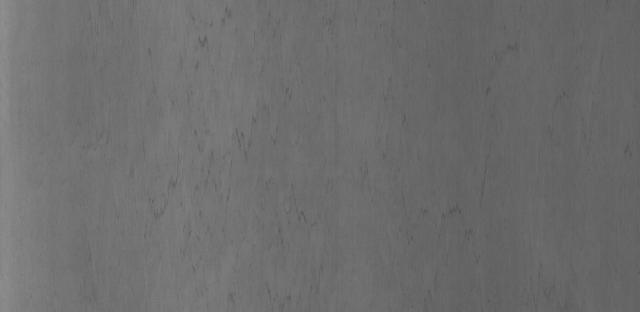silk_spot: (176, 84, 315, 244)
